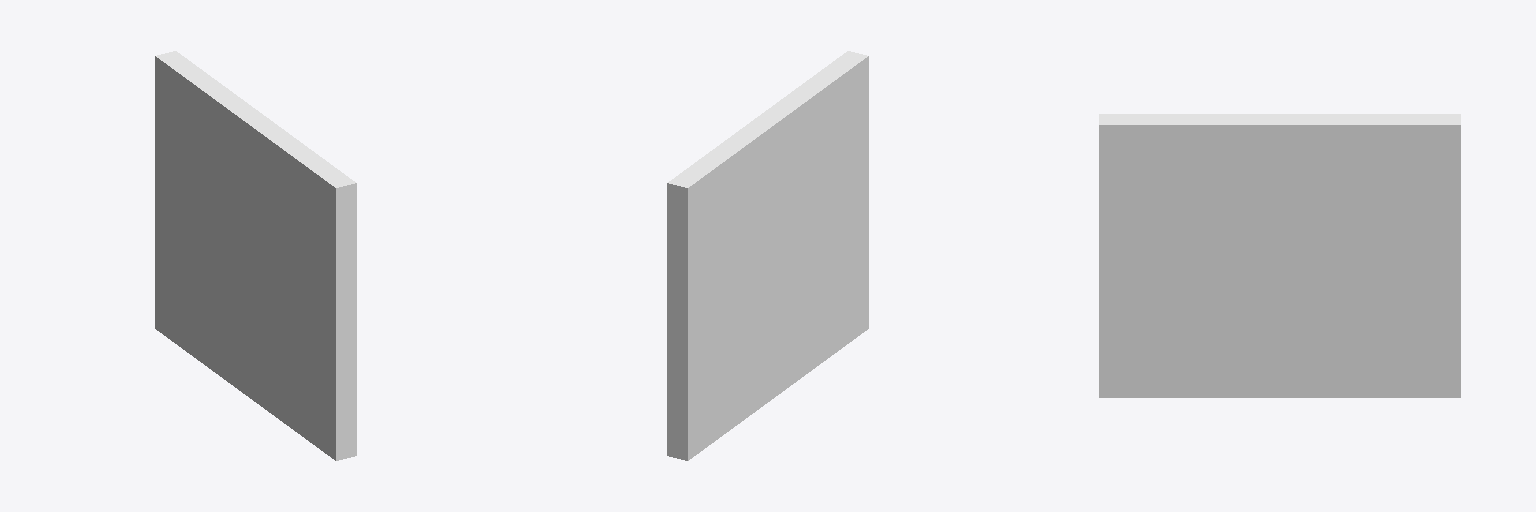
File: Volt-2-vhod-1.obj
3 renders of one model, left to right at view 1: azimuth 30°, elevation 25°; view 2: azimuth 150°, elevation 25°; view 3: azimuth 270°, elevation 25°, orthographic.
Parts seen in each view (by area): view 1: vhod-1; view 2: vhod-1; view 3: vhod-1.
Boxes of the visible parts, <box> form: vhod-1: <box>155,51,356,460</box>; vhod-1: <box>667,51,868,460</box>; vhod-1: <box>1099,114,1460,397</box>.
Size of the model in its own units: 0.2 by 2.5 by 3.